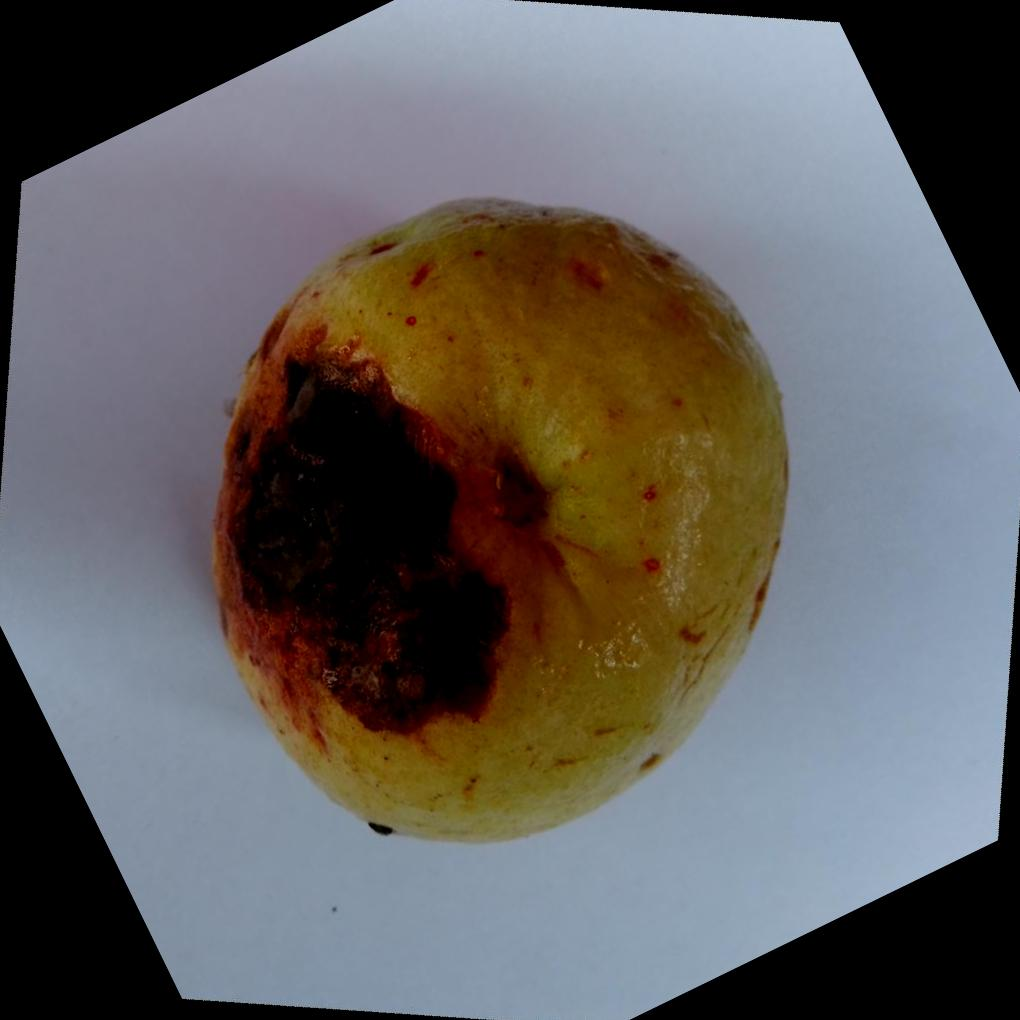FreshOrange: (205, 195, 788, 847)
